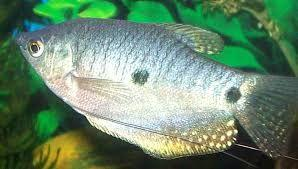Gourami: (15, 14, 298, 169)
